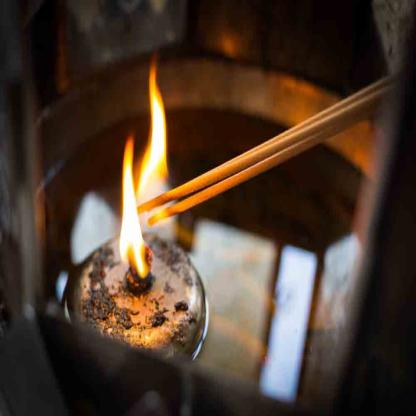fire: (113, 60, 174, 274)
